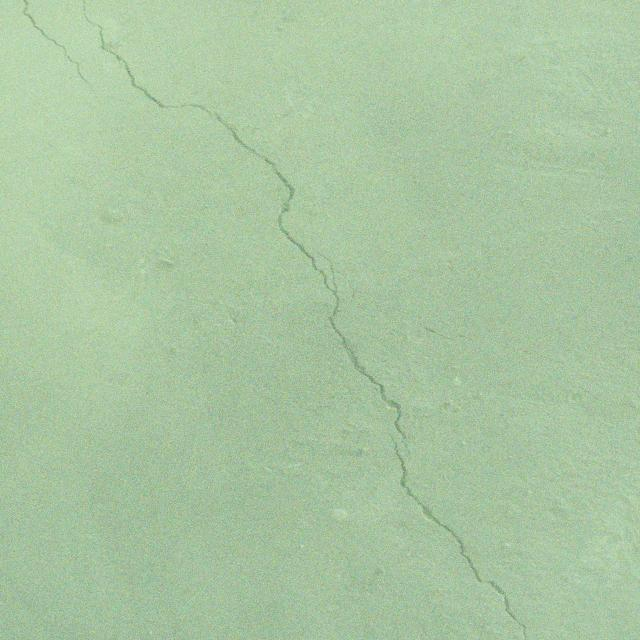crack: (83, 0, 560, 461), (386, 427, 528, 640), (20, 0, 134, 107), (566, 380, 636, 410)
